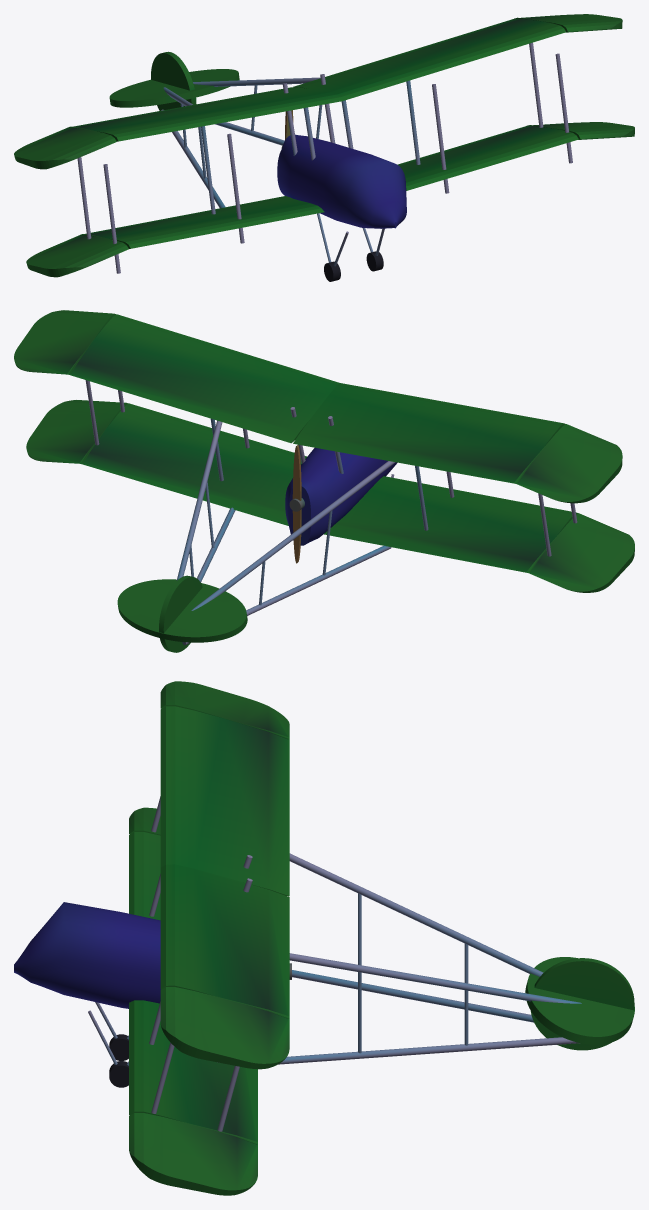
The picture shows the model from 3 angles, top to bottom: view 1: azimuth 30°, elevation 25°; view 2: azimuth 150°, elevation 25°; view 3: azimuth 270°, elevation 25°; orthographic projection. The views are drawn at different scales.
Visible parts, largest first — view 1: wing.001, wing, nacelle, tailplane, fin, upper_longeron, lower_longeron.001, post.004, post.002, post, post.006, post.005 (+4 smaller); view 2: wing.001, wing, tailplane, nacelle, fin, upper_longeron.001, upper_longeron, lower_longeron.001, propeller, lower_longeron; view 3: wing.001, wing, nacelle, tailplane, fin, lower_longeron, upper_longeron, upper_longeron.001, lower_longeron.001.
Boxes of the visible parts, box(x1,y1,x2,y2) form: wing.001: box(14, 14, 622, 169); wing: box(26, 122, 634, 277); nacelle: box(277, 134, 406, 228); tailplane: box(109, 69, 239, 107); fin: box(151, 51, 196, 110); upper_longeron: box(193, 77, 320, 86); lower_longeron.001: box(161, 109, 225, 208); post.004: box(227, 133, 244, 243); post.002: box(555, 53, 572, 163); post: box(432, 84, 449, 193); post.006: box(103, 164, 120, 273); post.005: box(201, 126, 215, 214); wing.001: box(14, 310, 622, 503); wing: box(26, 400, 634, 592); tailplane: box(117, 579, 247, 642); nacelle: box(285, 447, 397, 545); fin: box(159, 575, 202, 652); upper_longeron.001: box(191, 461, 395, 610); upper_longeron: box(176, 420, 222, 580); lower_longeron.001: box(182, 545, 391, 645); propeller: box(292, 445, 301, 563); lower_longeron: box(197, 507, 235, 582); wing.001: box(160, 681, 289, 1069); wing: box(129, 807, 257, 1195); nacelle: box(14, 902, 160, 1008); tailplane: box(525, 957, 634, 1044); fin: box(530, 958, 634, 1050); lower_longeron: box(278, 1037, 579, 1064); upper_longeron: box(289, 953, 581, 1003); upper_longeron.001: box(289, 853, 543, 976); lower_longeron.001: box(292, 970, 533, 1022).
Size of the model in its own units: 7.8 by 2.28 by 5.6.
